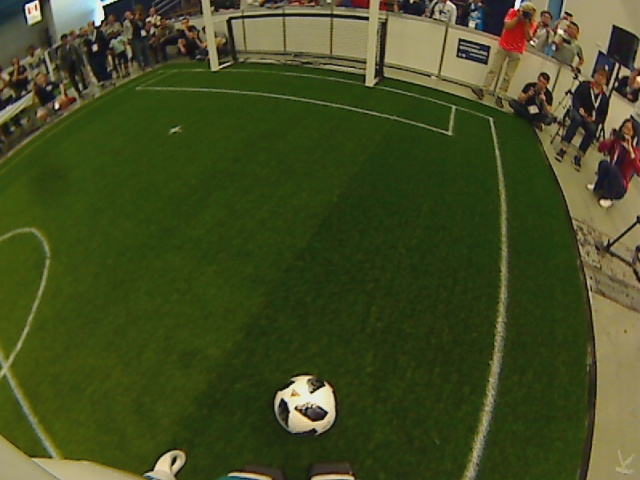ball: (269, 372, 340, 440)
